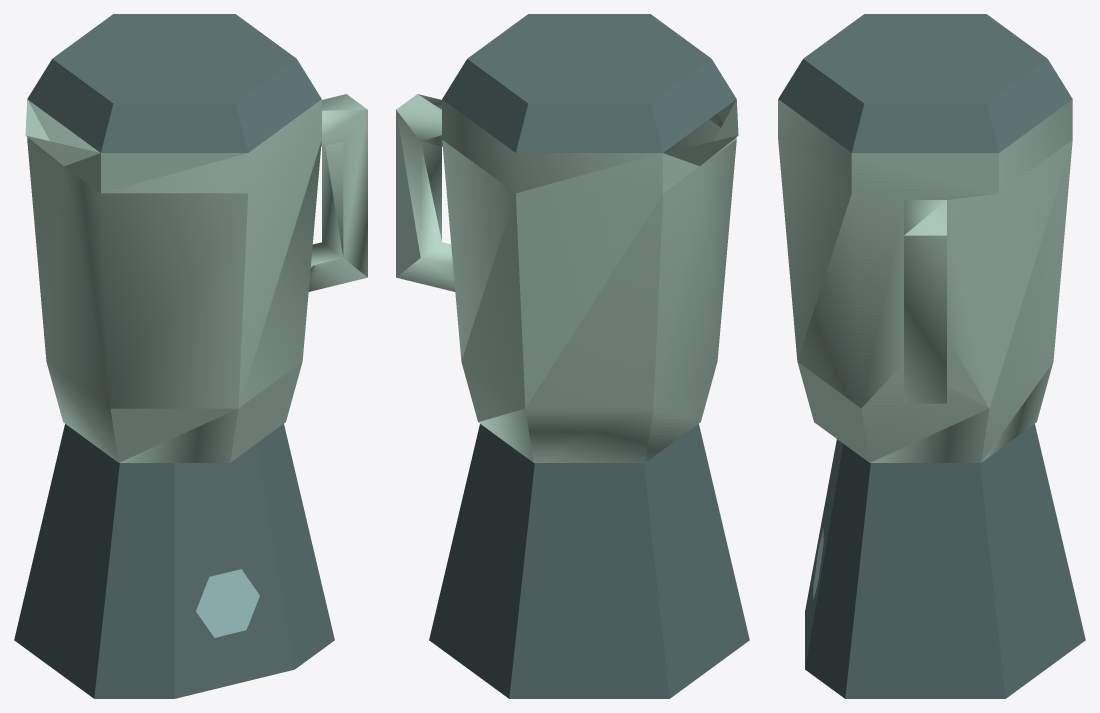
File: kitchen-blender.glb
3 views of the same model, side by side, from view 1: azimuth 30°, elevation 25°; view 2: azimuth 150°, elevation 25°; view 3: azimuth 270°, elevation 25° (orthographic).
Parts seen in each view (by area): view 1: kitchenBlender; view 2: kitchenBlender; view 3: kitchenBlender.
Boxes of the visible parts, x1=… form: kitchenBlender: x1=14, y1=14, x2=367, y2=698; kitchenBlender: x1=396, y1=14, x2=749, y2=698; kitchenBlender: x1=778, y1=14, x2=1085, y2=698.
Bounding box in the file's own units: 0.2717 × 0.455 × 0.2182.
